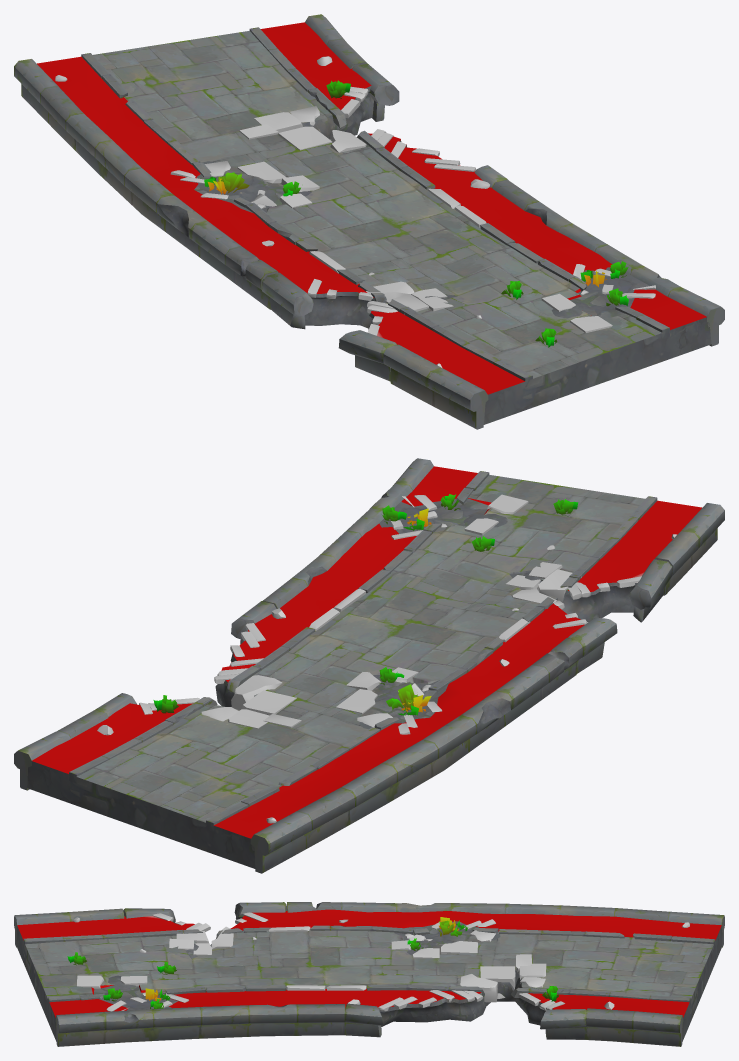
Rendered from Area_MdBuild_SdBridge22_01_Group.fbx.
3 renders of one model, top to bottom at view 1: azimuth 30°, elevation 25°; view 2: azimuth 150°, elevation 25°; view 3: azimuth 270°, elevation 25°, orthographic. The views are drawn at different scales.
Visible parts, largest first — view 1: Area_MdBuild_SdBridge22_01_Lod0; view 2: Area_MdBuild_SdBridge22_01_Lod0; view 3: Area_MdBuild_SdBridge22_01_Lod0, Stages_SGrass21_Vo.
Boxes of the visible parts, left/top/right/bottom form: Area_MdBuild_SdBridge22_01_Lod0: left=14, top=14, right=724, bottom=429; Area_MdBuild_SdBridge22_01_Lod0: left=14, top=458, right=724, bottom=873; Area_MdBuild_SdBridge22_01_Lod0: left=14, top=902, right=724, bottom=1046; Stages_SGrass21_Vo: left=437, top=917, right=462, bottom=936.
Size of the model in its own units: 11.55 by 1.8 by 28.68.
